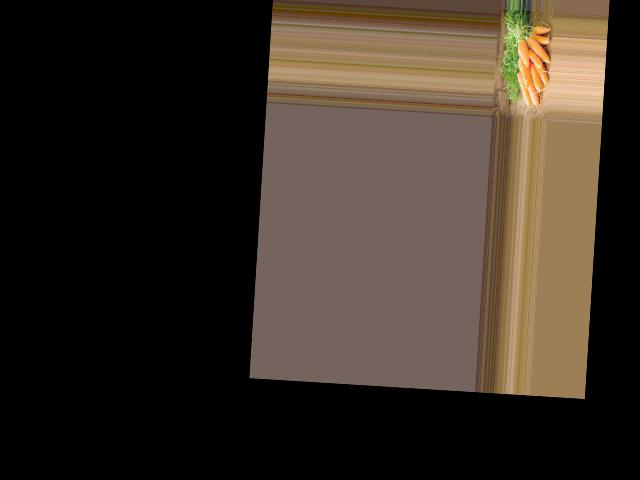carrot: (531, 23, 550, 34)
